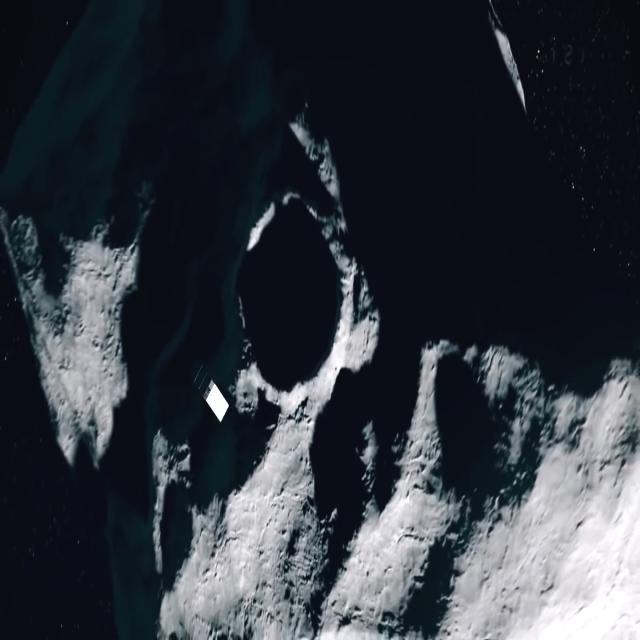large_debris: (195, 375, 236, 433)
